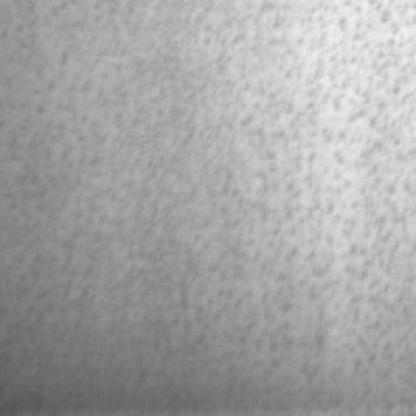pitted_surface: (6, 0, 416, 410)
